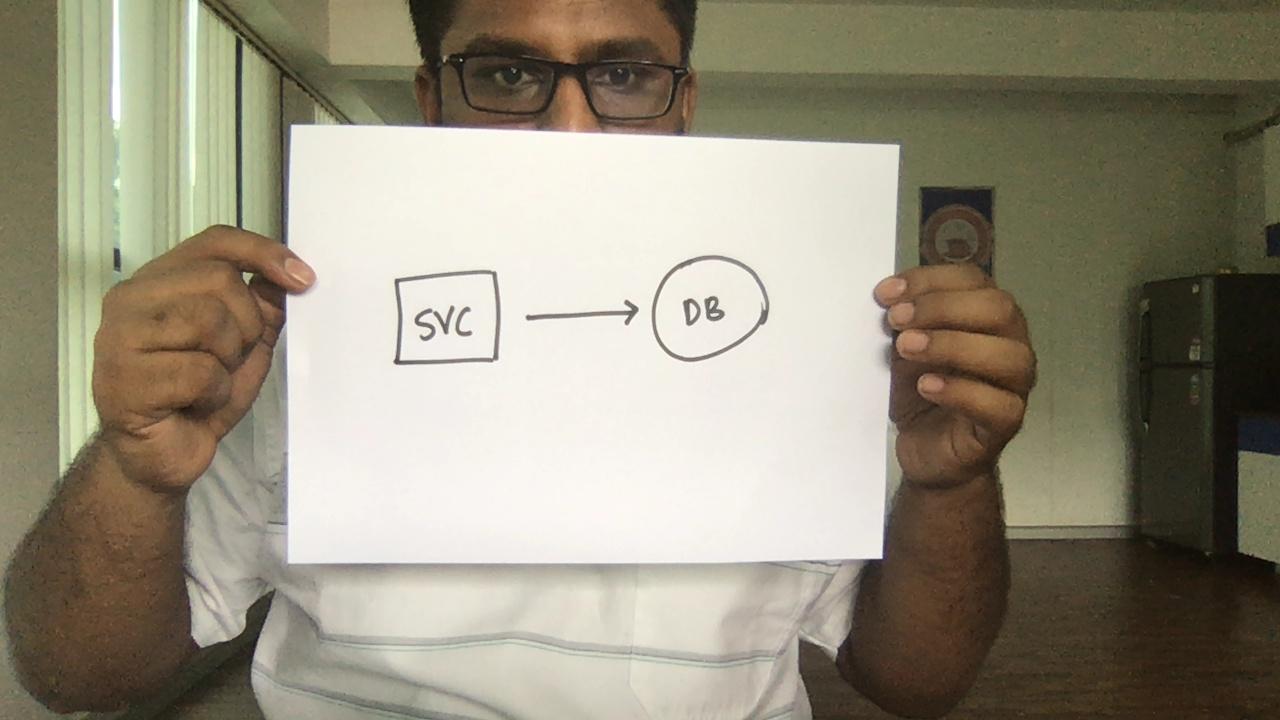arrow: (519, 284, 649, 358)
db: (648, 248, 779, 373)
ec2: (386, 262, 508, 376)
